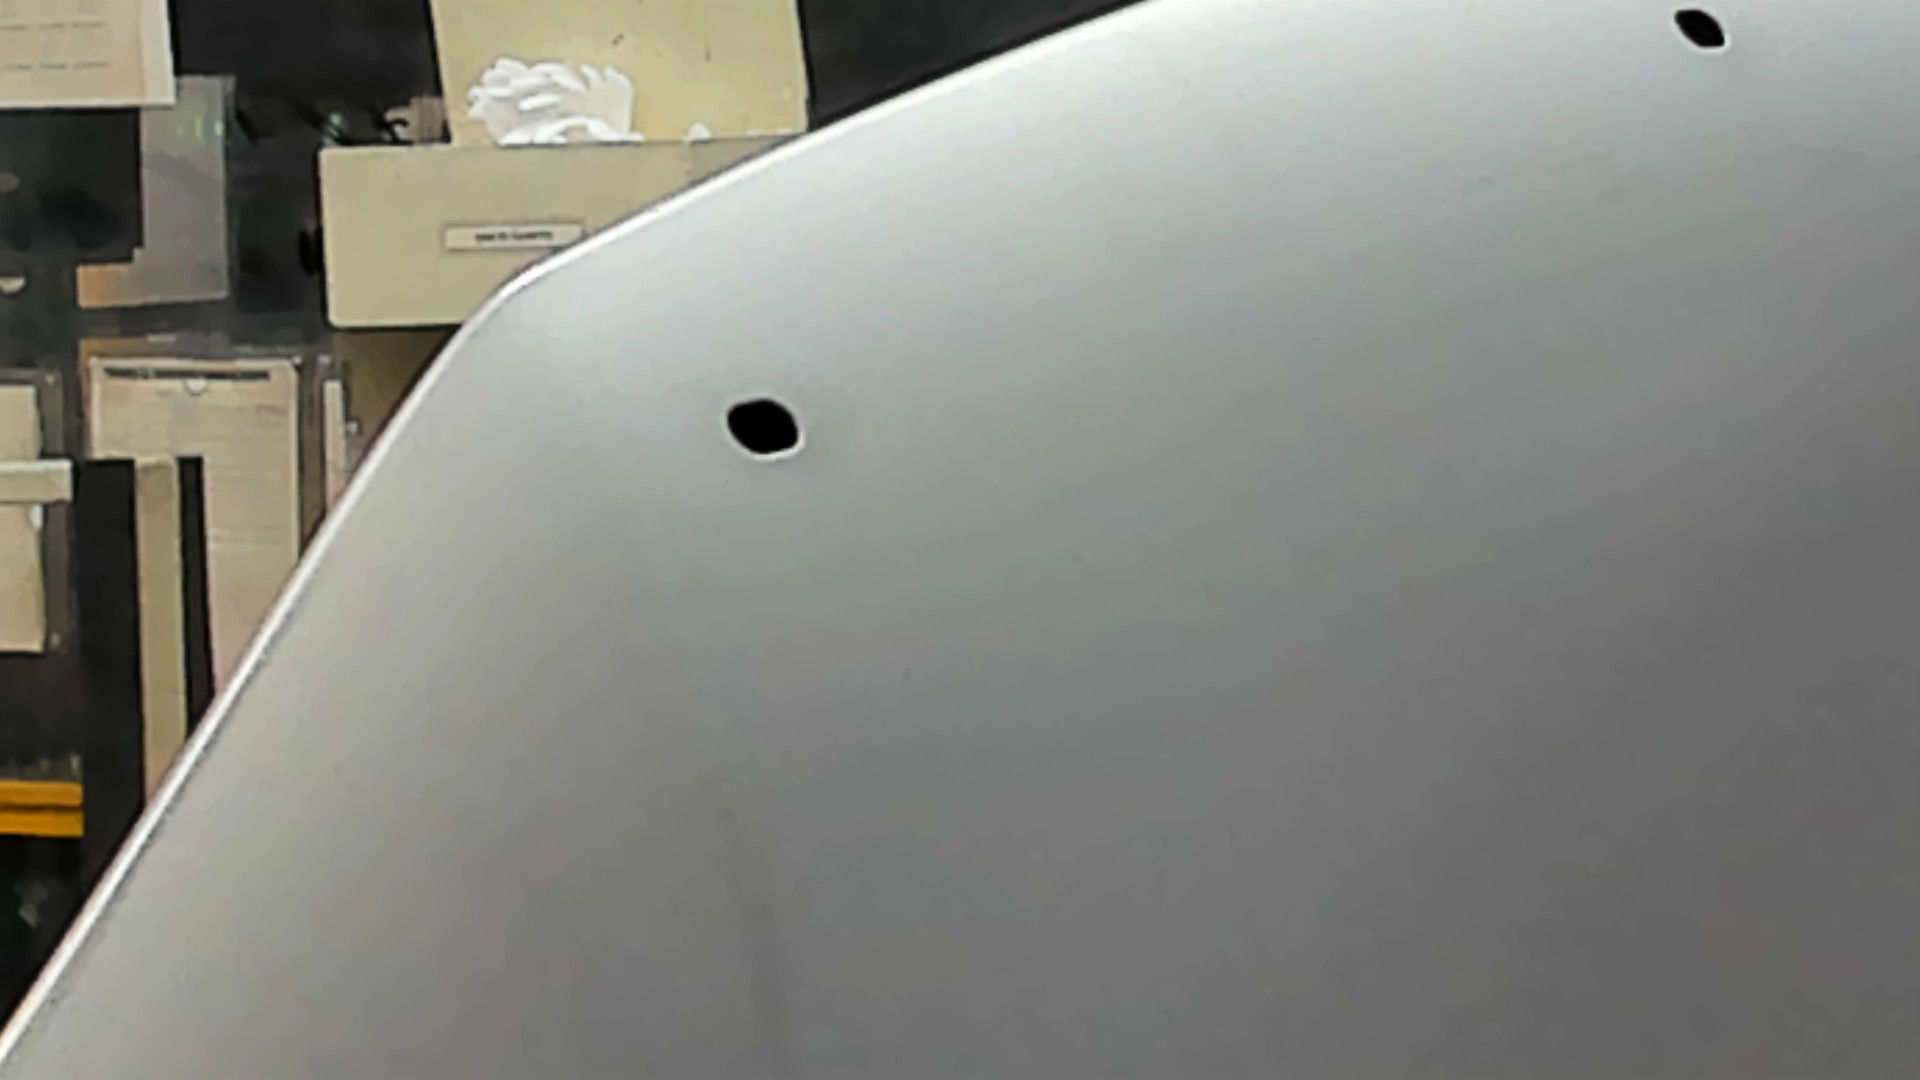Agujero: (723, 396, 808, 462), (1662, 1, 1735, 57)
